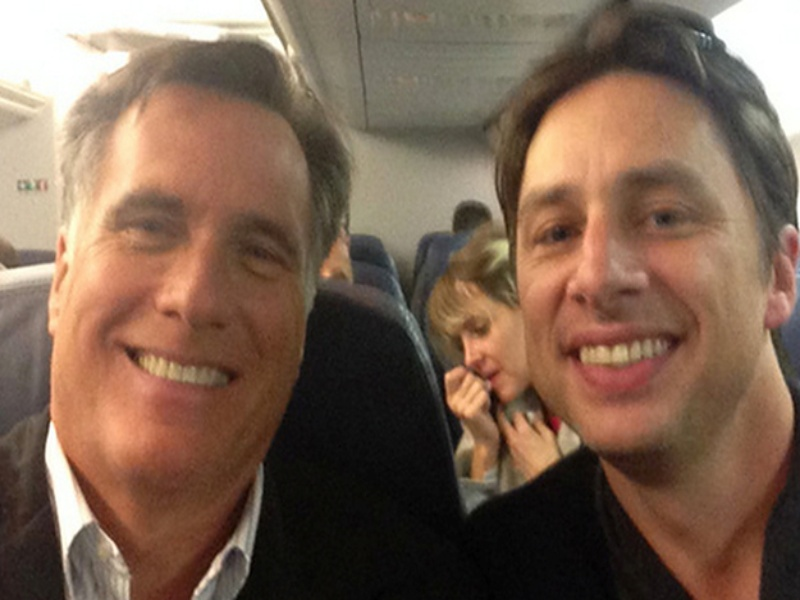smile: (67, 96, 298, 499), (518, 70, 748, 454)
